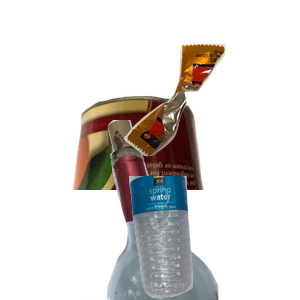glass: (83, 120, 294, 300)
metal: (69, 93, 265, 273)
plastic: (127, 176, 300, 300)
trash: (122, 41, 300, 190)
